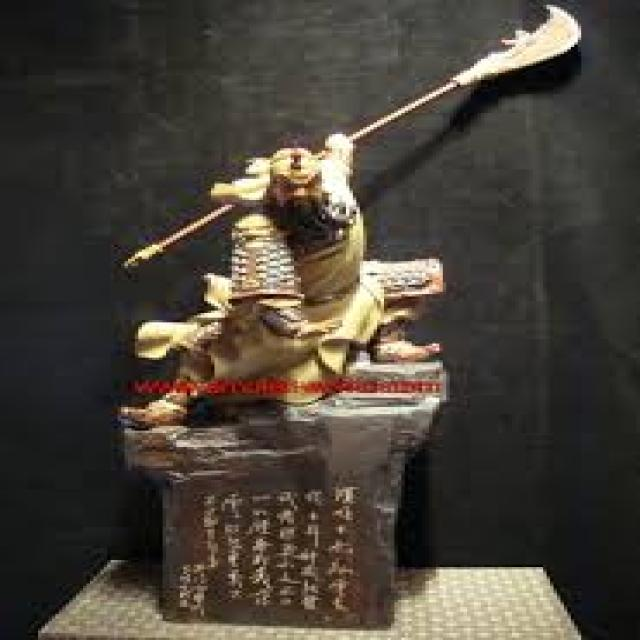Guan Yu: (192, 133, 394, 341)
